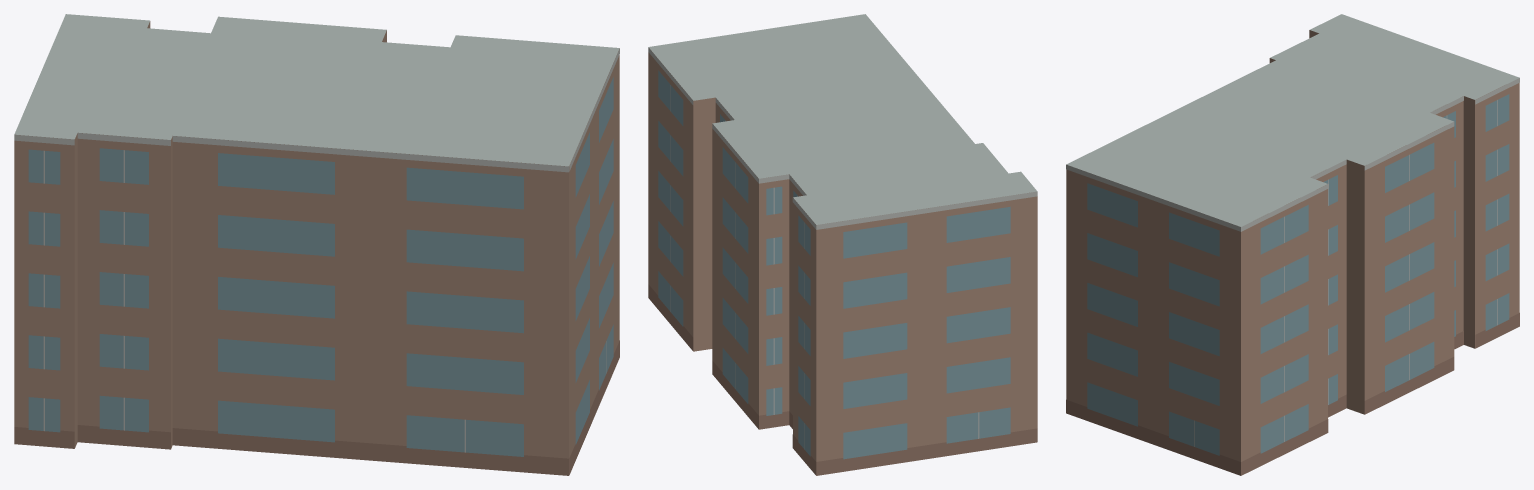
The model's file is survey-upis-32967555.glb.
3 renders of one model, left to right at view 1: azimuth 30°, elevation 25°; view 2: azimuth 150°, elevation 25°; view 3: azimuth 270°, elevation 25°, orthographic. The views are drawn at different scales.
Parts seen in each view (by area): view 1: survey-upis-32967555.tmp; view 2: survey-upis-32967555.tmp; view 3: survey-upis-32967555.tmp.
Part boxes in pixels (x1,y1,x2,y2): survey-upis-32967555.tmp: (14,14,619,475); survey-upis-32967555.tmp: (648,14,1037,475); survey-upis-32967555.tmp: (1066,14,1519,475).
Size of the model in its own units: 23.14 by 12.6 by 20.82.
